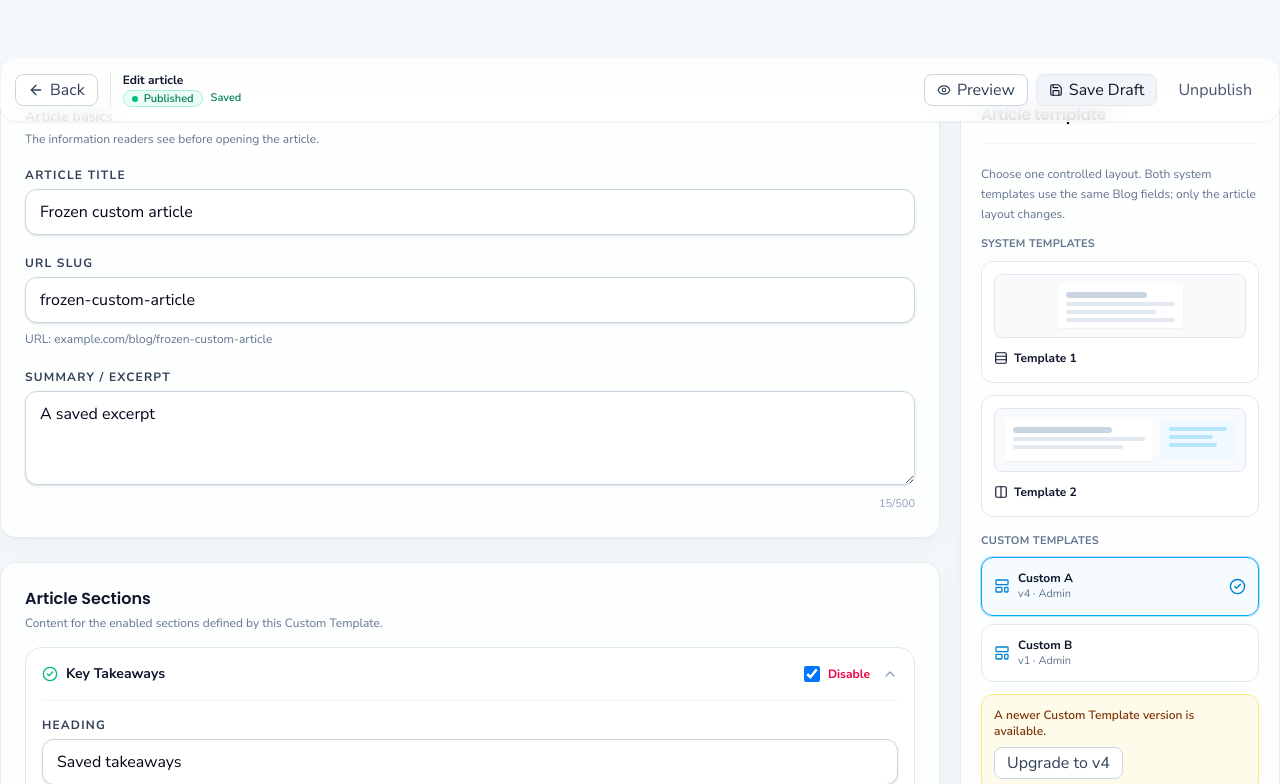
Test: BlogForm Custom Template switching and upgrades › keeps the frozen version on load and upgrades only after explicit confirmation
Click the button "Upgrade to v4" at (1058, 763), box [994,747,1123,779]
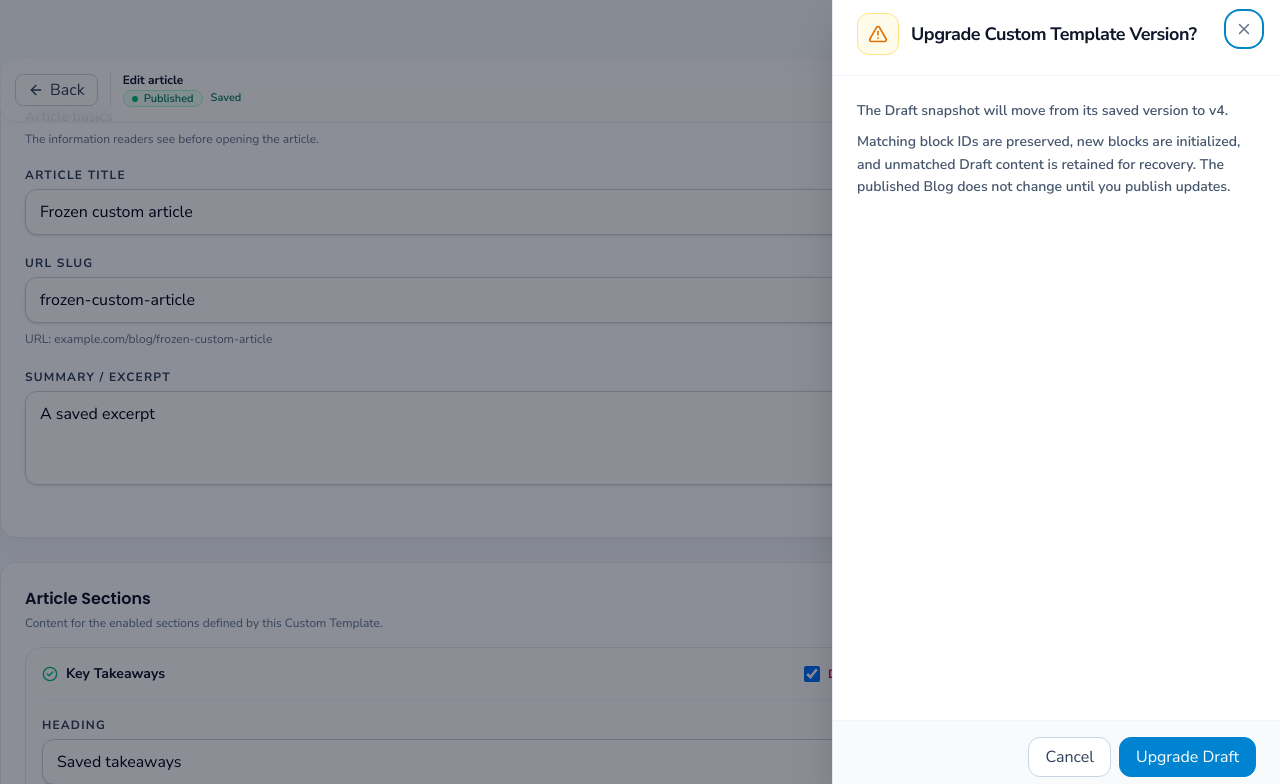
Result: the text "Upgrade Custom Template Version?" is shown at [911,20,1197,48]
Click the button "Upgrade Draft" at (1188, 757), box [1119,737,1256,777]
(page scrolled)
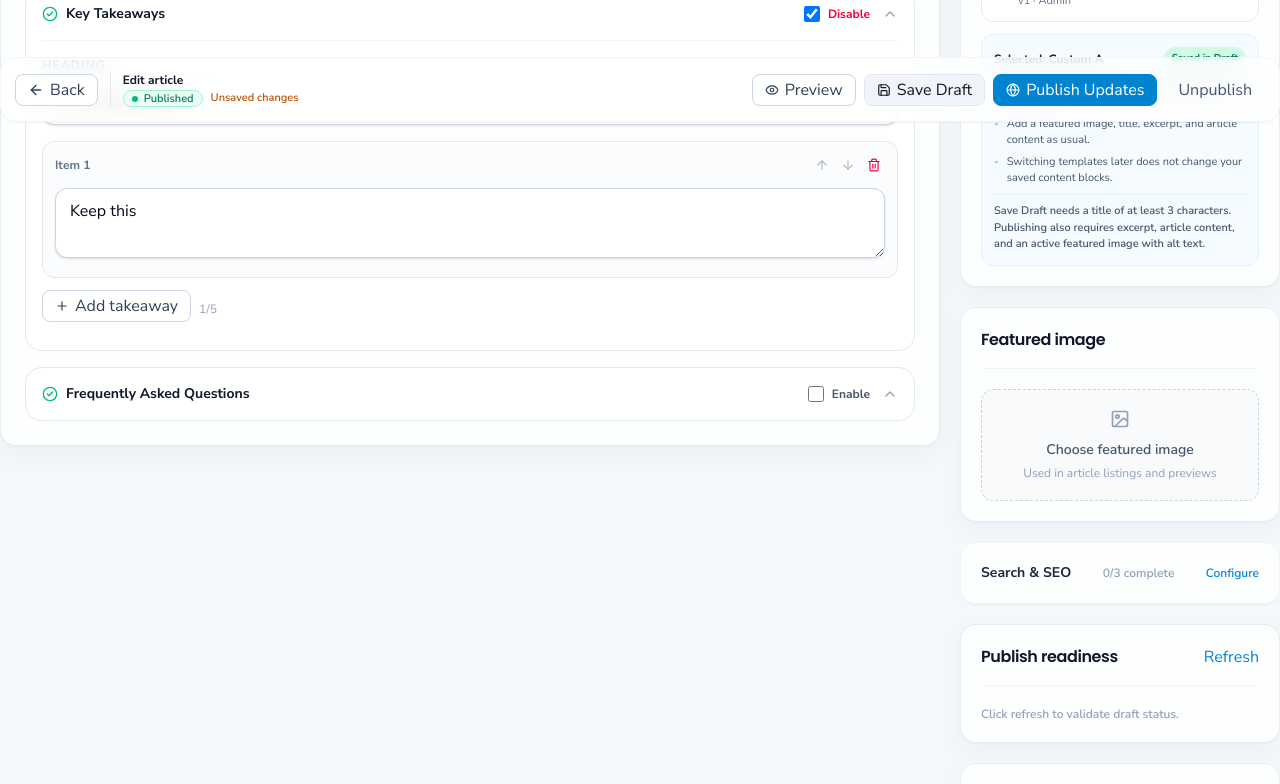
Result: the text "Frequently Asked Questions" is shown at [42,384,250,404]
